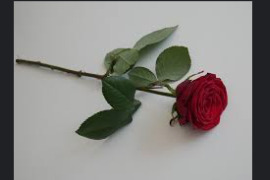RedRose: (167, 62, 238, 138)
